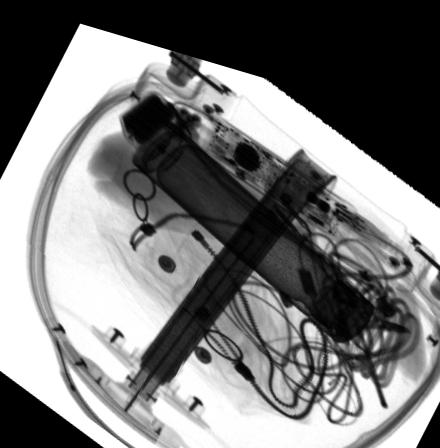Powerbank: (118, 80, 179, 141)
